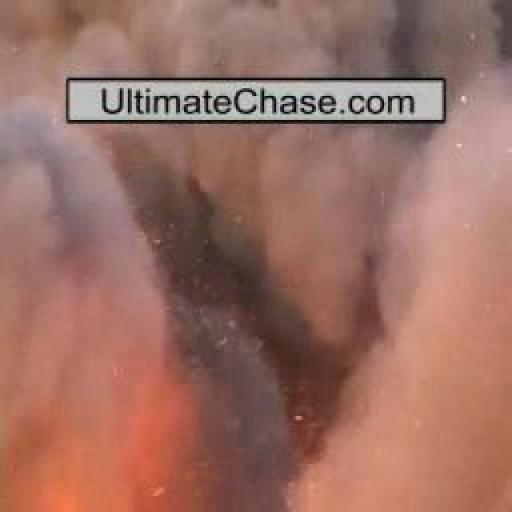smoke: (2, 356, 216, 512)
